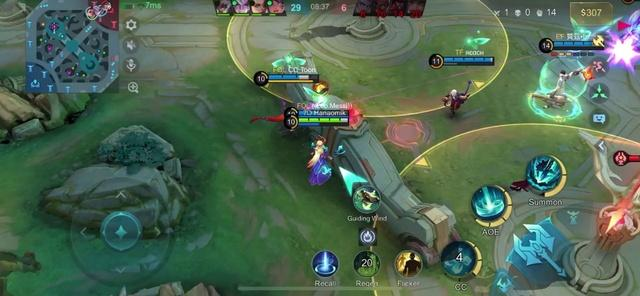Adc_Aliado: (86, 6, 93, 15)
Dyrrot: (442, 81, 470, 116)
Energia: (269, 80, 320, 84)
Exp_Aliado: (93, 6, 100, 16)
Exp_Enemigo: (100, 0, 112, 9)
Granger: (532, 68, 580, 107)
HP_Aliado: (553, 40, 601, 48), (298, 110, 349, 117), (267, 75, 319, 81), (444, 58, 494, 63)
HP_Heroe_Principal: (299, 117, 349, 123)
Hechizo_Batalla: (395, 250, 422, 276)
Jungla_Aliado: (97, 7, 107, 14)
Lesly: (248, 98, 324, 138)
Mana: (299, 123, 349, 125)
Mid_Aliado: (87, 10, 96, 21)
Minimapa: (25, 0, 121, 95)
Skill2: (470, 185, 512, 227)
Skill3: (525, 155, 566, 196)
Torre_Enemiga: (566, 139, 639, 292), (345, 17, 387, 39)
Vexana: (306, 136, 331, 185)
